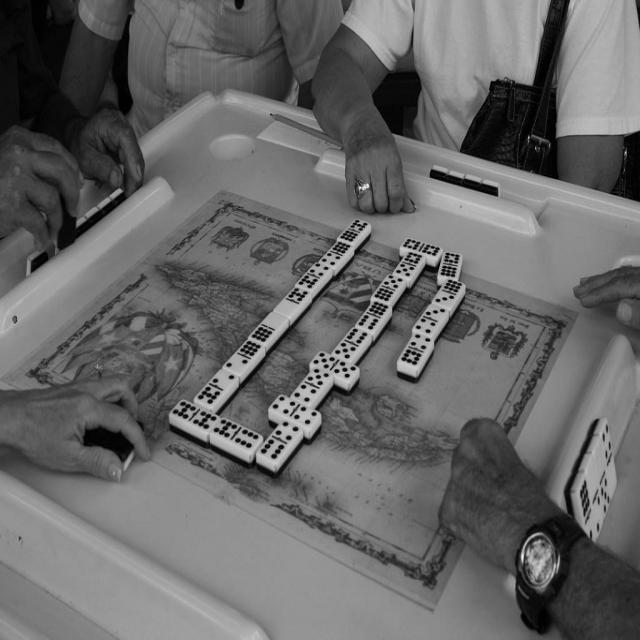table: (0, 114, 598, 640)
